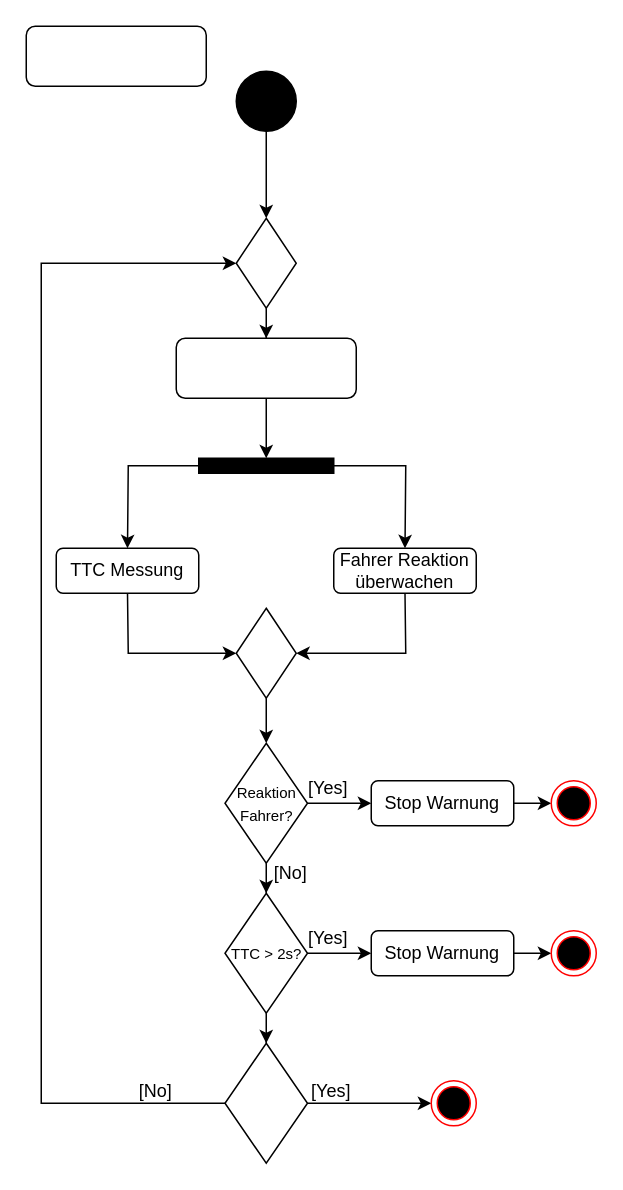
This 623x1190 diagram has some shape labels left out. Here are the shapes that lost their labels. From the top down, the centre of each, then its label:
At (x=115, y=55): "FCW".
At (x=265, y=367): "Warnsignale Aktivieren (akustisch, haitisch und visuell)".
At (x=266, y=1102): "TTC < 1.6s?".
